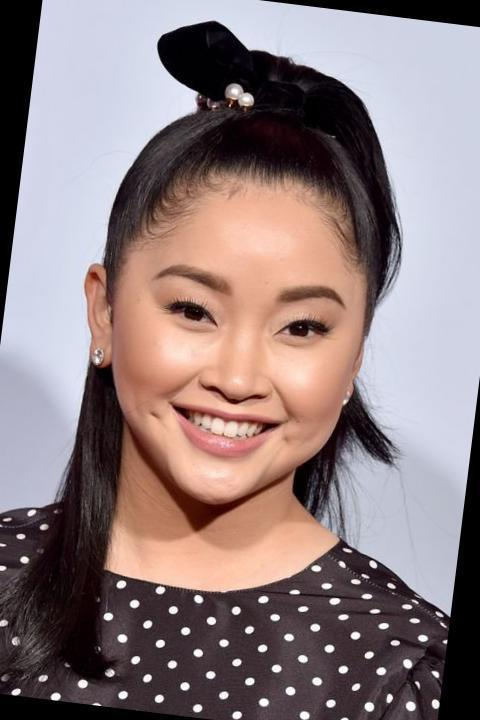Sober: (131, 189, 350, 480)
